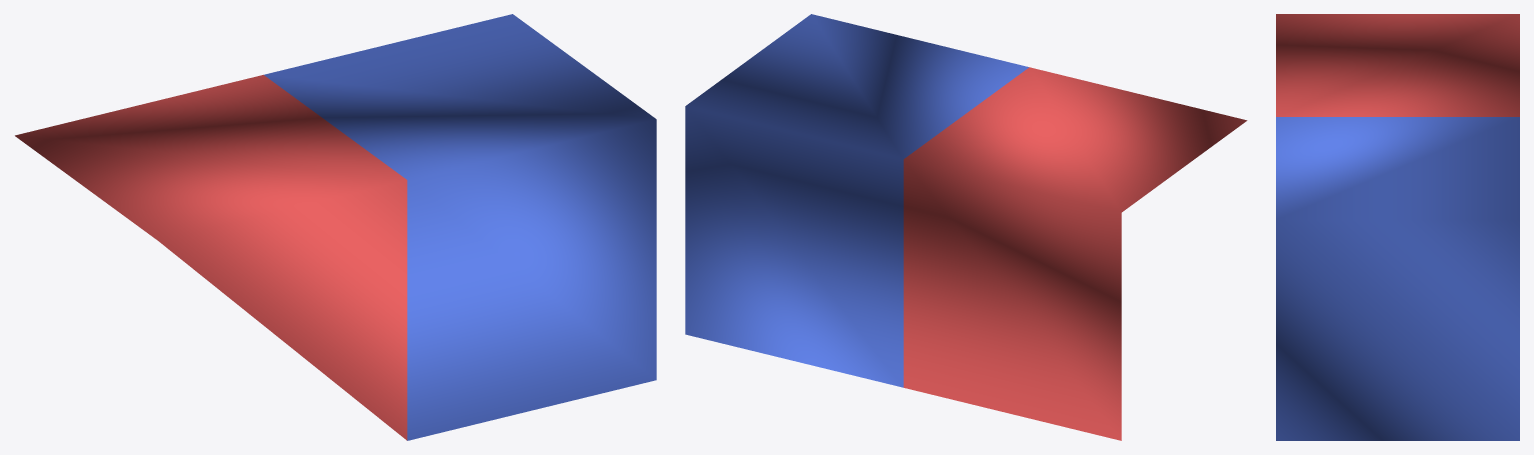
The model's file is PositionNonFinite.glb.
3 views of the same model, side by side, from view 1: azimuth 30°, elevation 25°; view 2: azimuth 150°, elevation 25°; view 3: azimuth 270°, elevation 25° (orthographic). The views are drawn at different scales.
Visible parts, largest first — view 1: Shape 1; view 2: Shape 1; view 3: Shape 1.
Part boxes in pixels (x1,y1,x2,y2): Shape 1: (15,14,656,440); Shape 1: (685,14,1247,440); Shape 1: (1276,14,1519,440).
Size of the model in its own units: 0.02 by 0.01 by 0.01.
